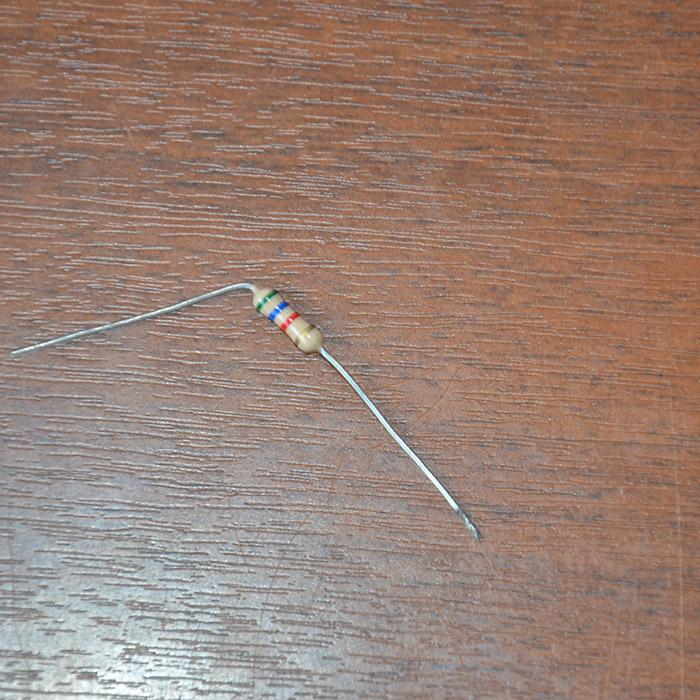resistor: (253, 286, 321, 353)
